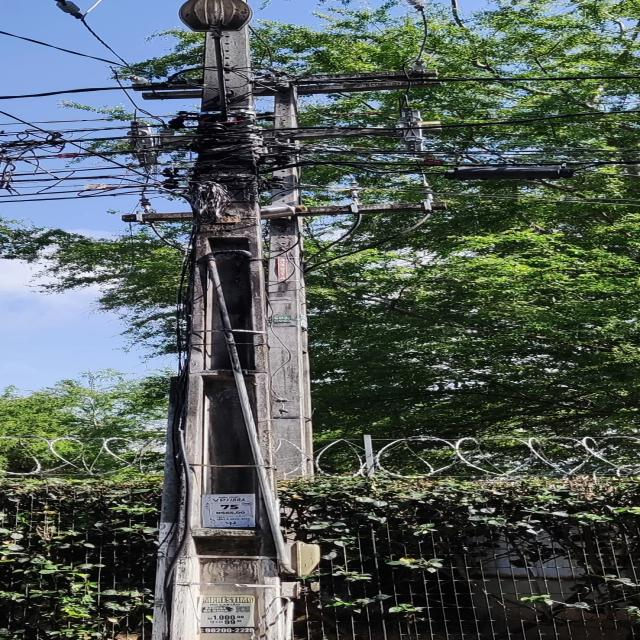Plaqueta: (423, 158, 443, 164), (58, 153, 78, 158)
